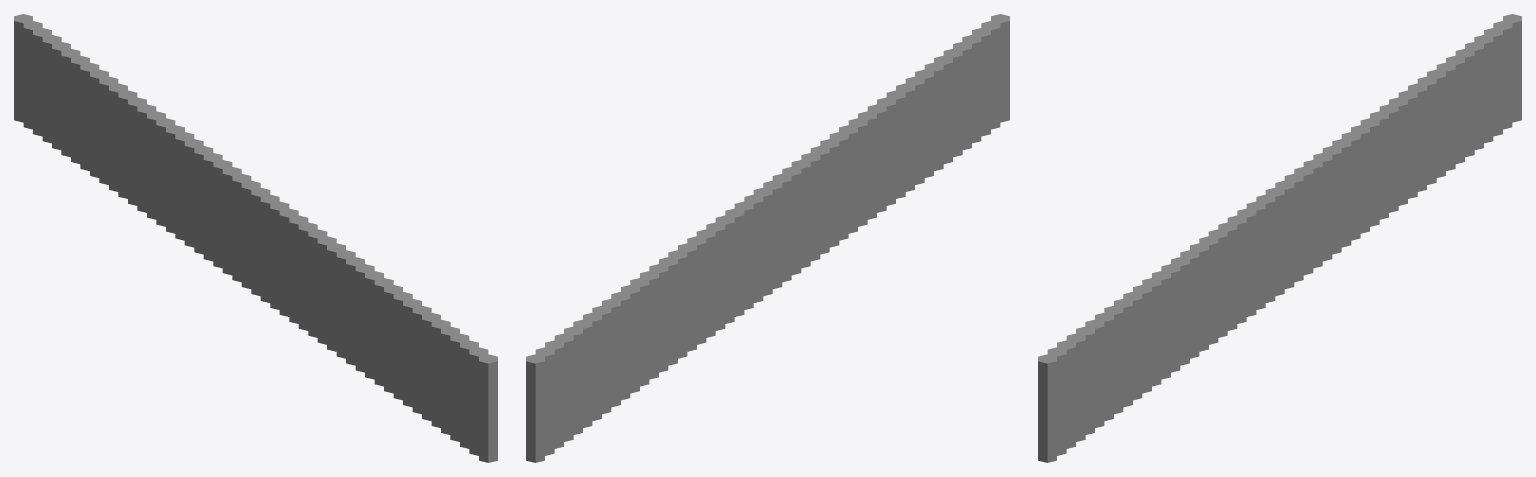
Rendered from plainWorld.obj.
3 renders of one model, left to right at view 1: azimuth 30°, elevation 25°; view 2: azimuth 150°, elevation 25°; view 3: azimuth 330°, elevation 25°, orthographic.
Parts seen in each view (by area): view 1: 円; view 2: 円; view 3: 円.
Boxes of the visible parts, <box> form: 円: <box>14,14,497,462</box>; 円: <box>526,14,1009,462</box>; 円: <box>1038,14,1521,462</box>.
Bounding box in the file's own units: 2 × 10 × 86.5.
48 materials, 48 textured.
